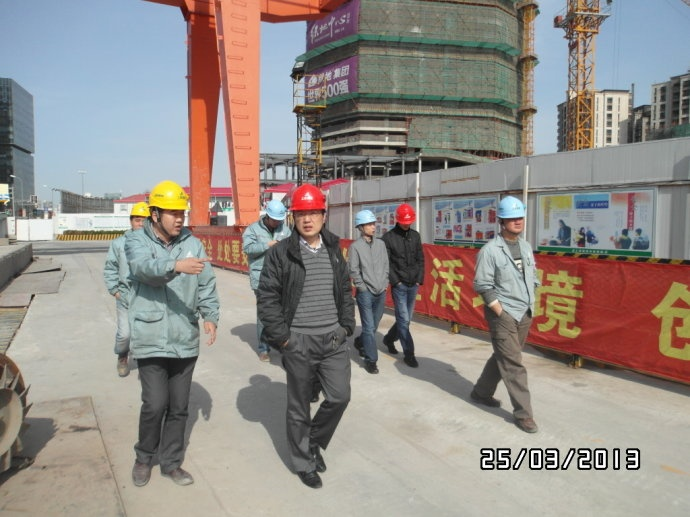blue: (493, 194, 528, 238), (261, 197, 287, 229), (356, 212, 376, 236)
red: (287, 182, 329, 240), (392, 200, 416, 232)
yellow: (148, 179, 191, 238), (127, 201, 149, 230)
